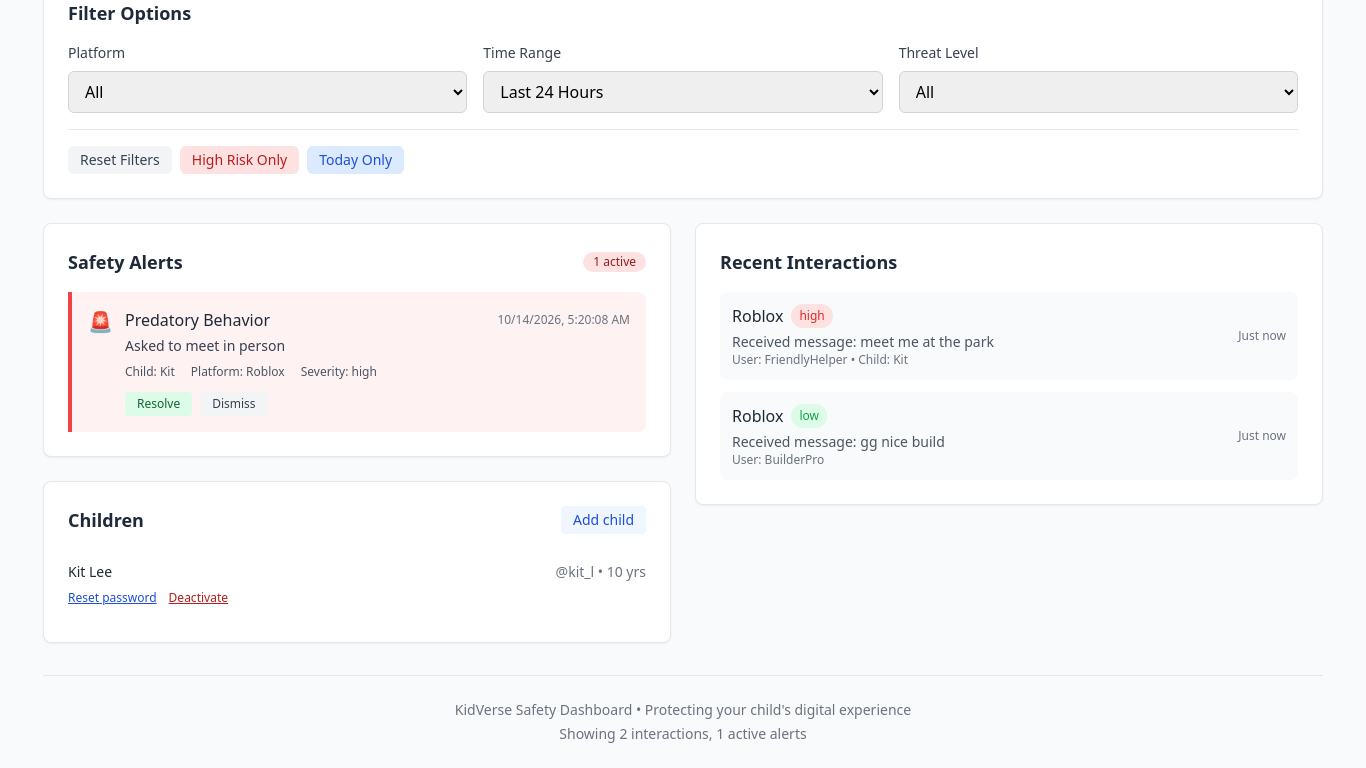
Test case: Dashboard children › managing an existing child › keeps the reset form open and explains why when the password is rejected
The image size is (1366, 768).
(page scrolled)
Click the button named "Reset password for Kit": (112,598) [68,590,157,606]
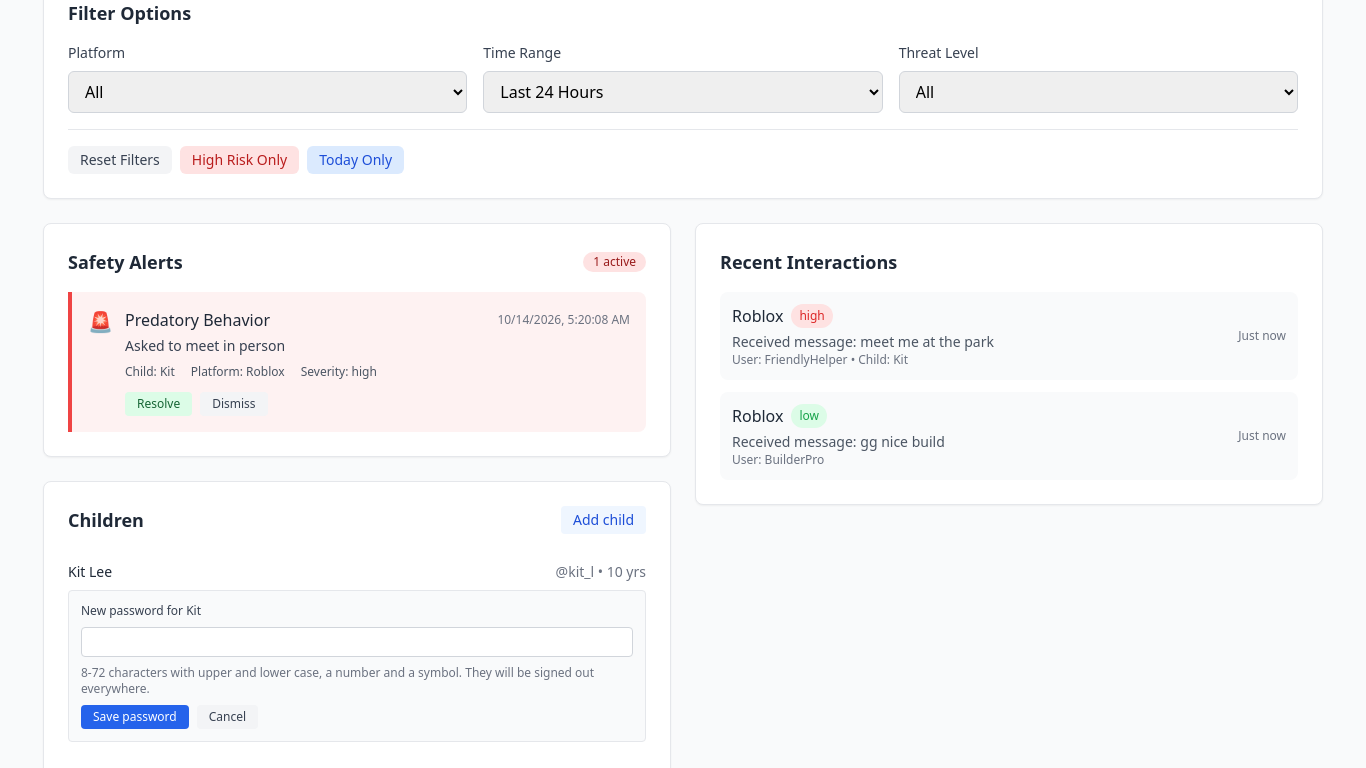
In the password field labelled "New password for Kit": (357,642) [81,627,633,657], type "Weakpass!"
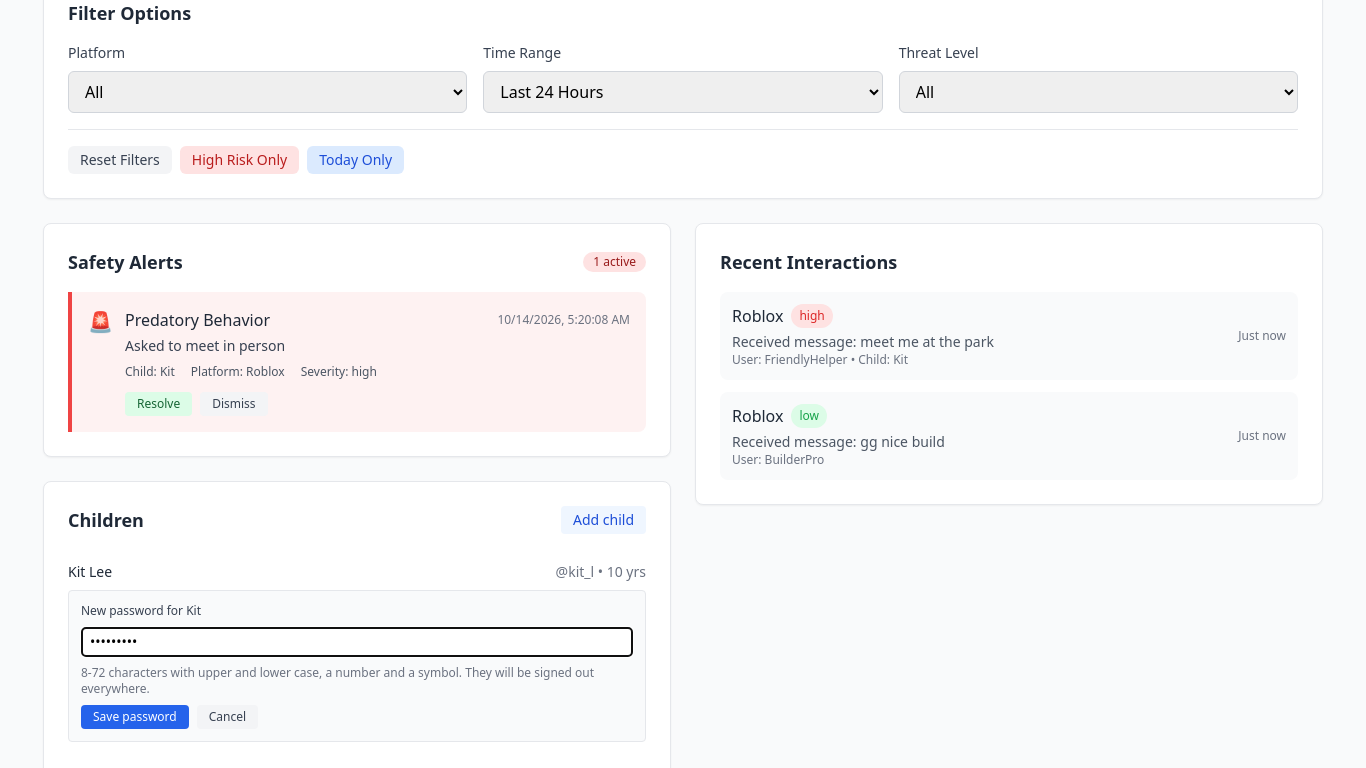
Click the button "Save password": (135,717) [81,705,189,729]
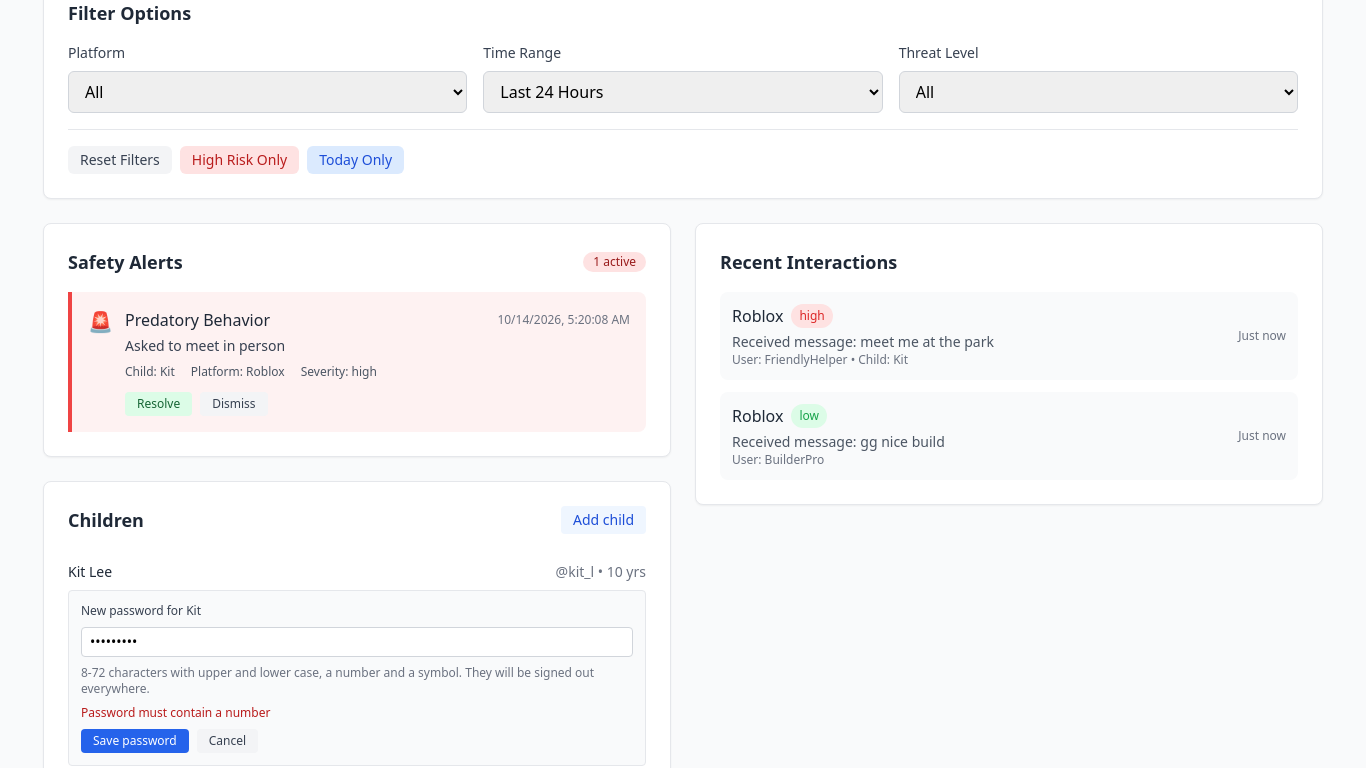
Check: the message reads "Password must contain a number", box [81,704,270,721]
